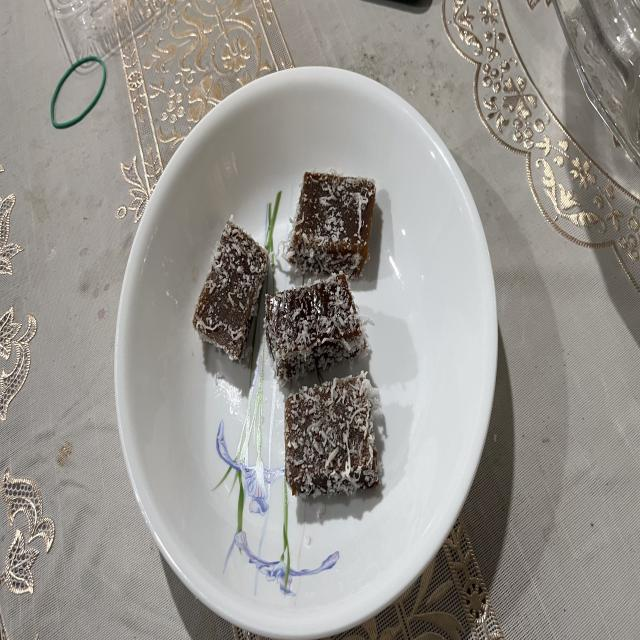kaswi: (285, 373, 380, 500), (264, 273, 368, 384), (192, 220, 269, 360), (286, 171, 375, 278)
